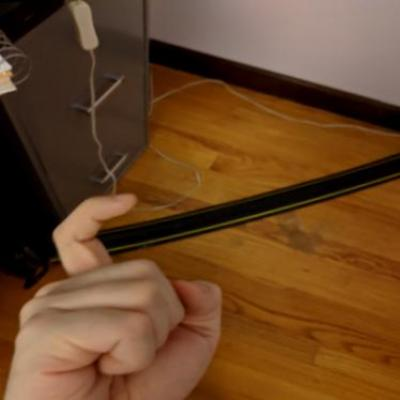hand: (0, 177, 248, 399)
